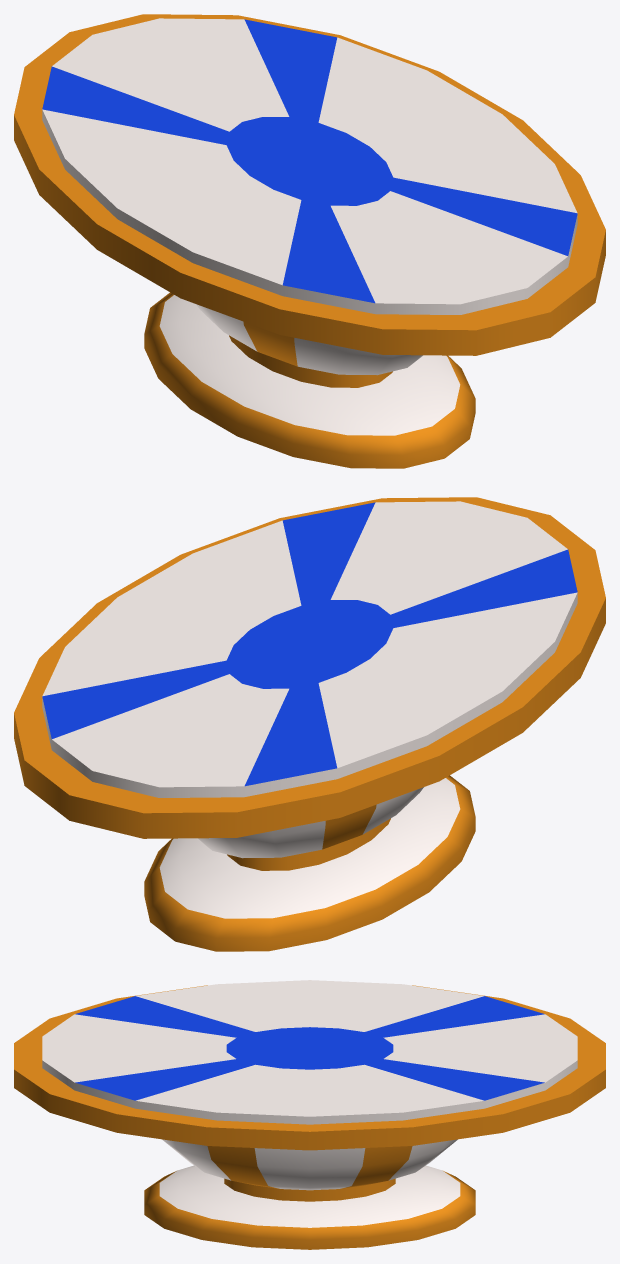
The model's file is ban 4_02.FBX.
3 views of the same model, one above another, from view 1: azimuth 30°, elevation 25°; view 2: azimuth 150°, elevation 25°; view 3: azimuth 270°, elevation 25° (orthographic). The views are drawn at different scales.
Visible parts, largest first — view 1: Object1222; view 2: Object1222; view 3: Object1222.
Boxes of the visible parts, x1,y1,x2,y2 form: Object1222: (14, 14, 605, 468); Object1222: (14, 497, 605, 951); Object1222: (14, 980, 605, 1249).
Bounding box in the file's own units: 2.92 × 1.43 × 4.84.
